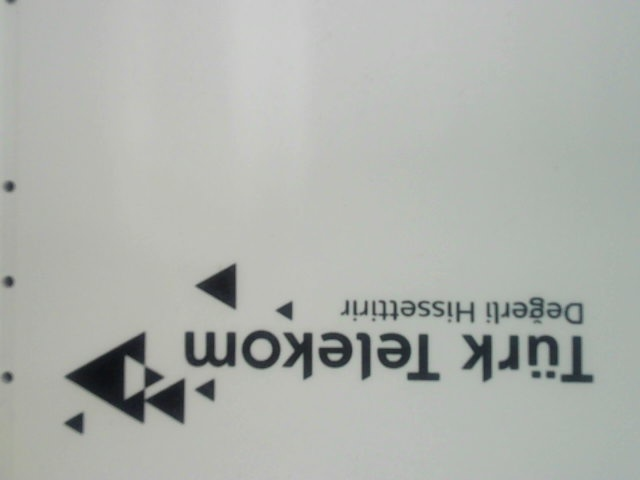AQ_TURKTelekom: (38, 268, 615, 427)
